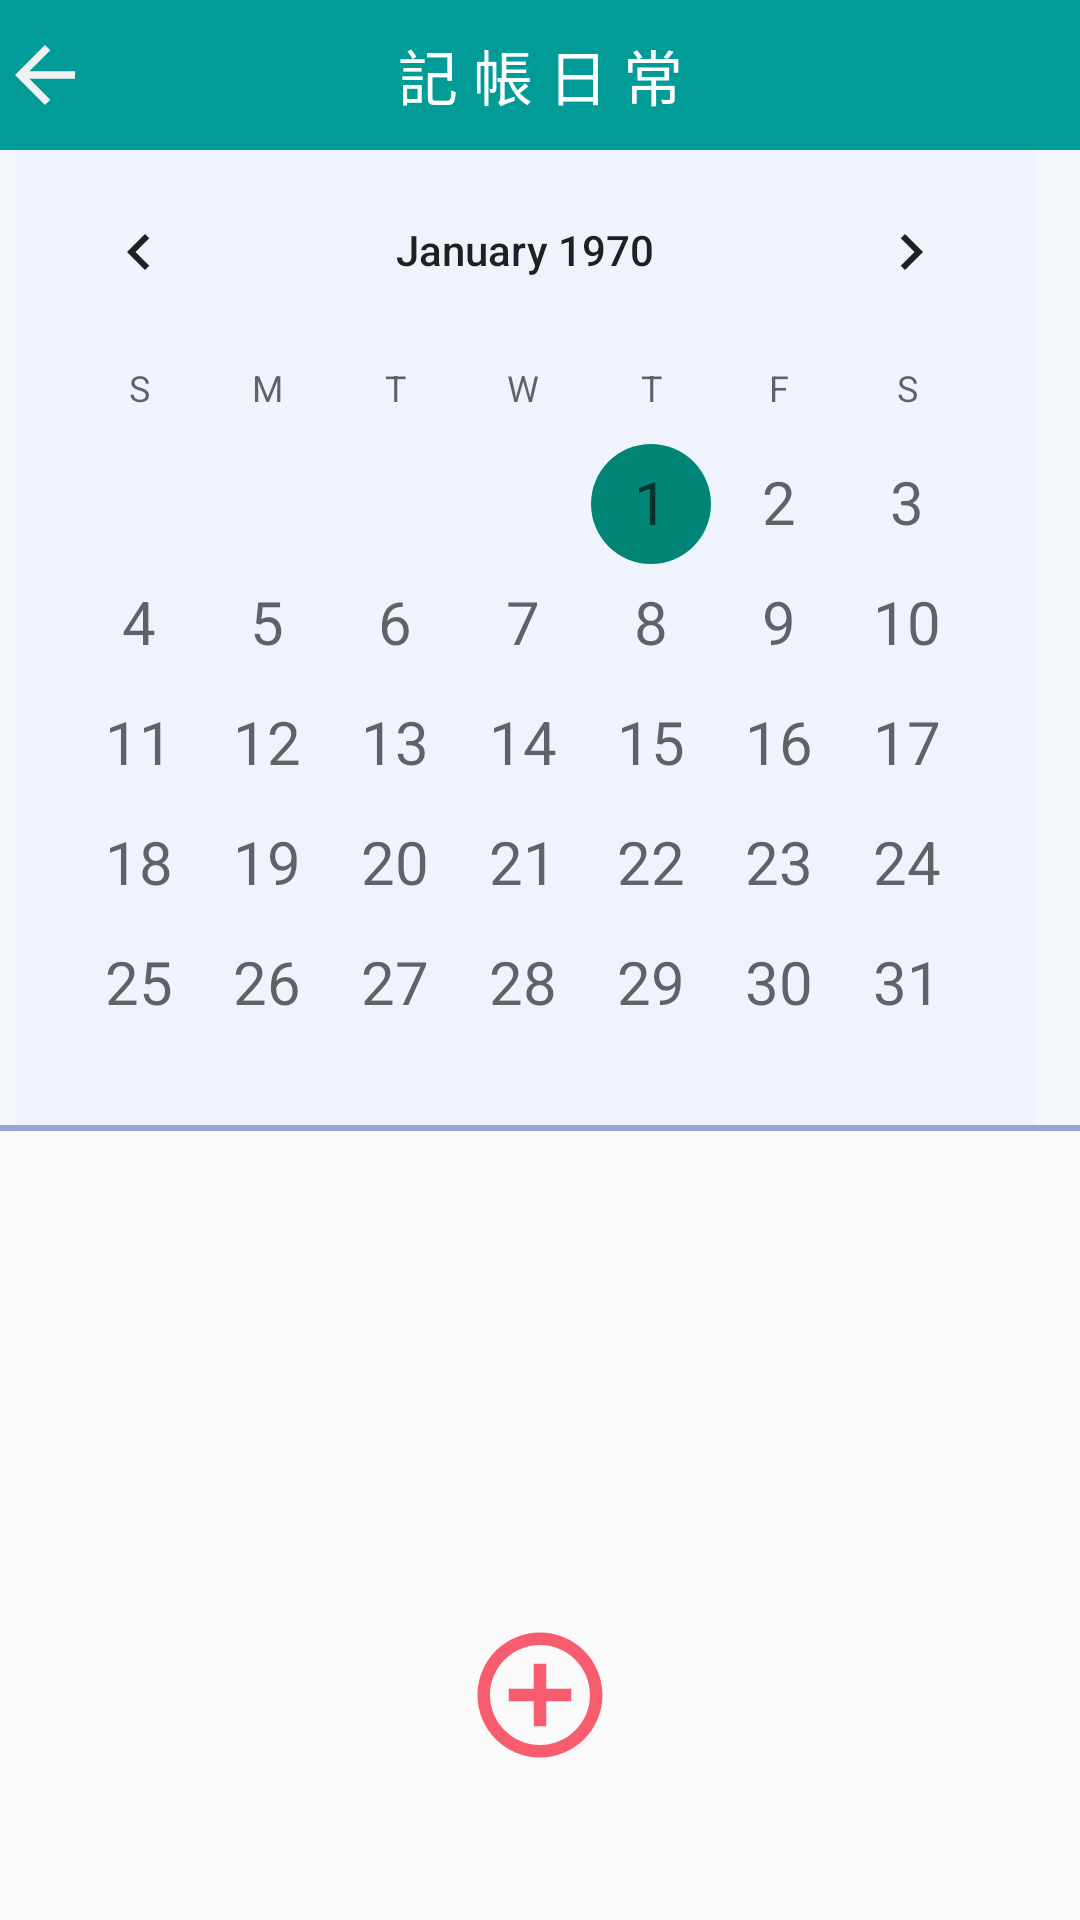

Screen size 1080w x 1920h. Icon name, then its box in pixels as (x1, y1, x2, y2):
add: (477, 1632, 603, 1758)
back: (15, 45, 75, 105)
